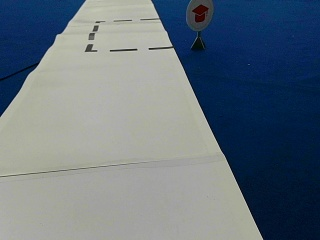school: (185, 1, 213, 30)
